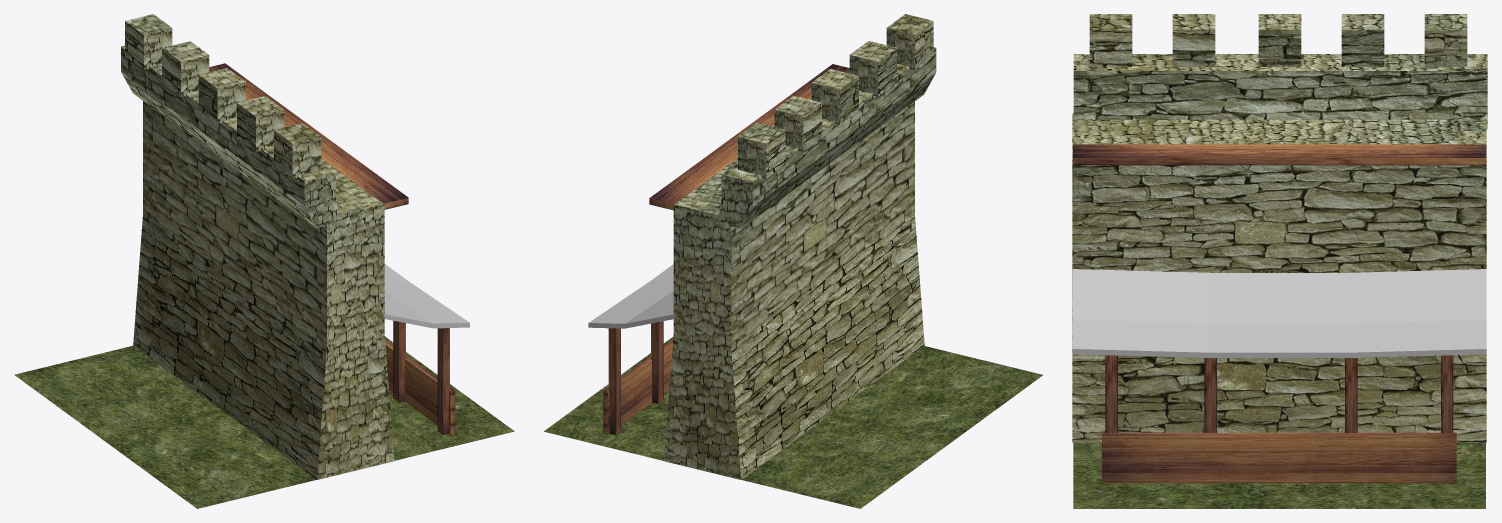
File: WallLeanTo1LoPoly.obj
3 renders of one model, left to right at view 1: azimuth 30°, elevation 25°; view 2: azimuth 150°, elevation 25°; view 3: azimuth 270°, elevation 25°, orthographic. The views are drawn at different scales.
Parts seen in each view (by area): view 1: limestone, grass, floor, roof; view 2: limestone, grass, floor, roof; view 3: limestone, roof, floor, grass.
Boxes of the visible parts, x1,y1,x2,y2 form: limestone: [121, 14, 394, 479]; grass: [14, 336, 514, 508]; floor: [209, 63, 455, 434]; roof: [384, 264, 469, 328]; limestone: [664, 14, 936, 479]; grass: [544, 337, 1042, 508]; floor: [603, 64, 849, 434]; roof: [588, 264, 675, 328]; limestone: [1072, 14, 1487, 442]; roof: [1072, 269, 1486, 357]; floor: [1073, 144, 1486, 483]; grass: [1073, 442, 1485, 508].
Bounding box in the file's own units: 76 × 78.22 × 76.42.
